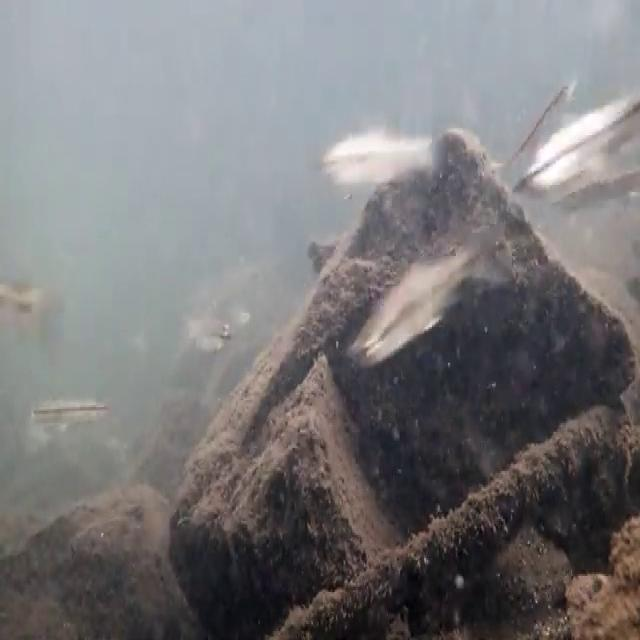Cakil Baligi: (355, 206, 511, 368), (521, 78, 639, 206), (319, 114, 443, 195), (27, 388, 112, 438), (184, 306, 232, 355)
